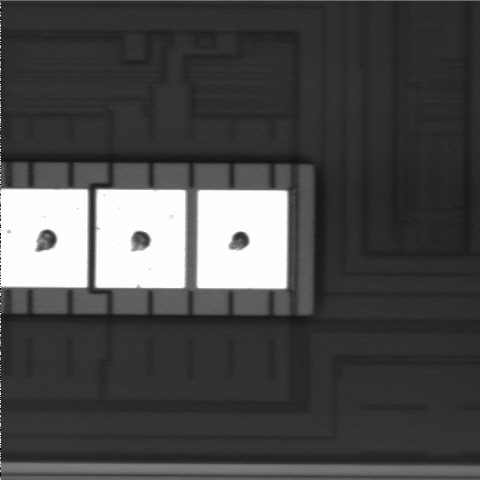pad: (95, 190, 186, 288), (197, 190, 287, 289)
